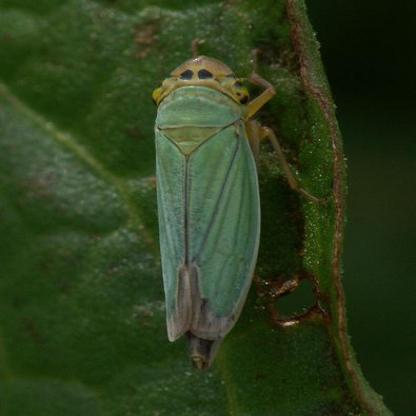Green-Leafhopper: (144, 55, 284, 360)
